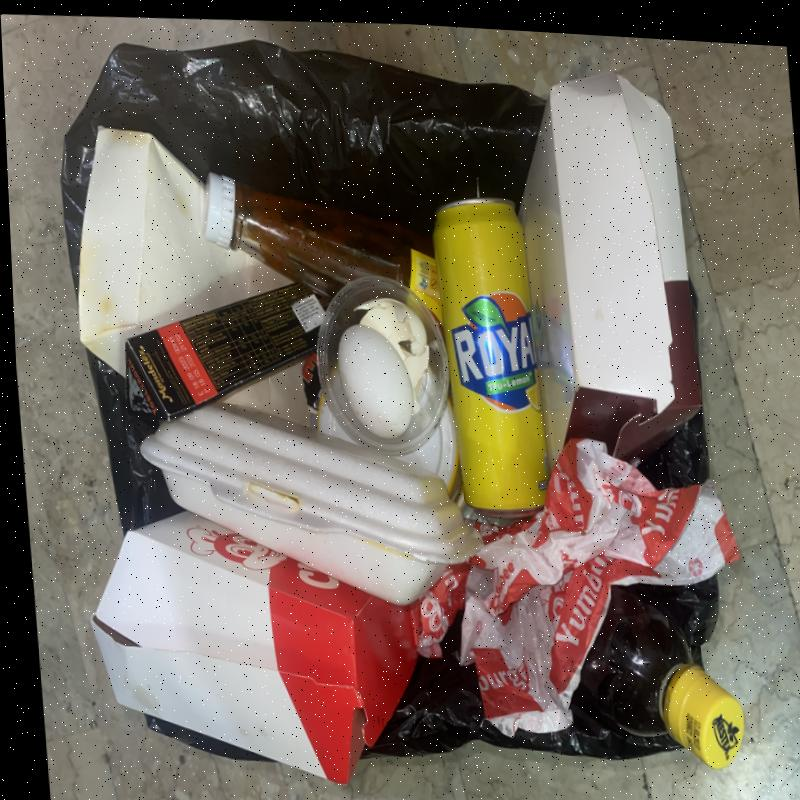aluminum: (432, 198, 550, 520)
cardboard: (87, 513, 425, 788), (518, 74, 699, 471), (120, 283, 330, 424)
egg shell: (352, 297, 427, 418), (338, 323, 412, 438)
glass bottle: (75, 127, 295, 379), (198, 169, 439, 327)
paper: (419, 435, 734, 739)
plastic bottle: (575, 580, 743, 769)
styrofoam containers: (136, 402, 484, 604)
